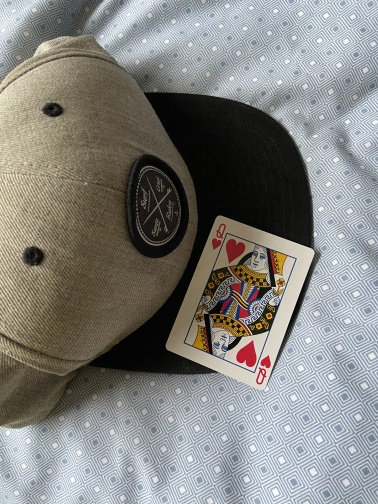queen: (163, 214, 316, 392)
